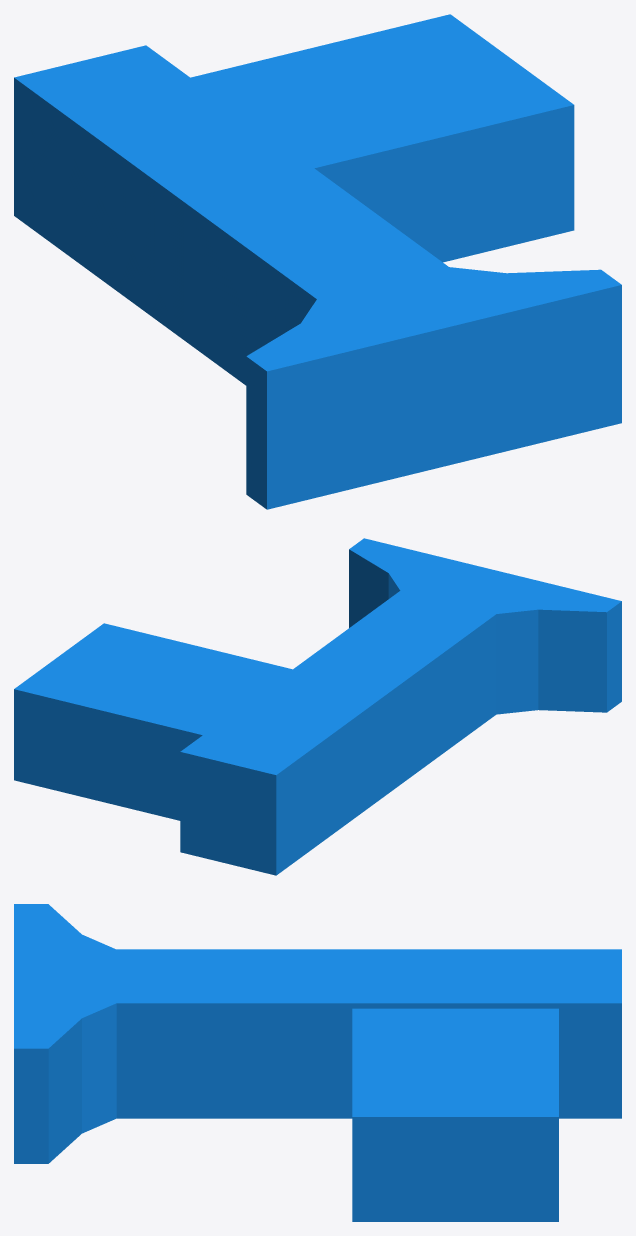
Rendered from Part1 BlueFlag.fbx.
3 renders of one model, top to bottom at view 1: azimuth 30°, elevation 25°; view 2: azimuth 150°, elevation 25°; view 3: azimuth 270°, elevation 25°, orthographic. The views are drawn at different scales.
Parts seen in each view (by area): view 1: BlueFlag; view 2: BlueFlag; view 3: BlueFlag.
Part boxes in pixels (left/top/right/bottom): BlueFlag: left=14, top=14, right=621, bottom=509; BlueFlag: left=14, top=538, right=621, bottom=875; BlueFlag: left=14, top=904, right=621, bottom=1221.
Bounding box in the file's own units: 57.9 × 15 × 71.64.
